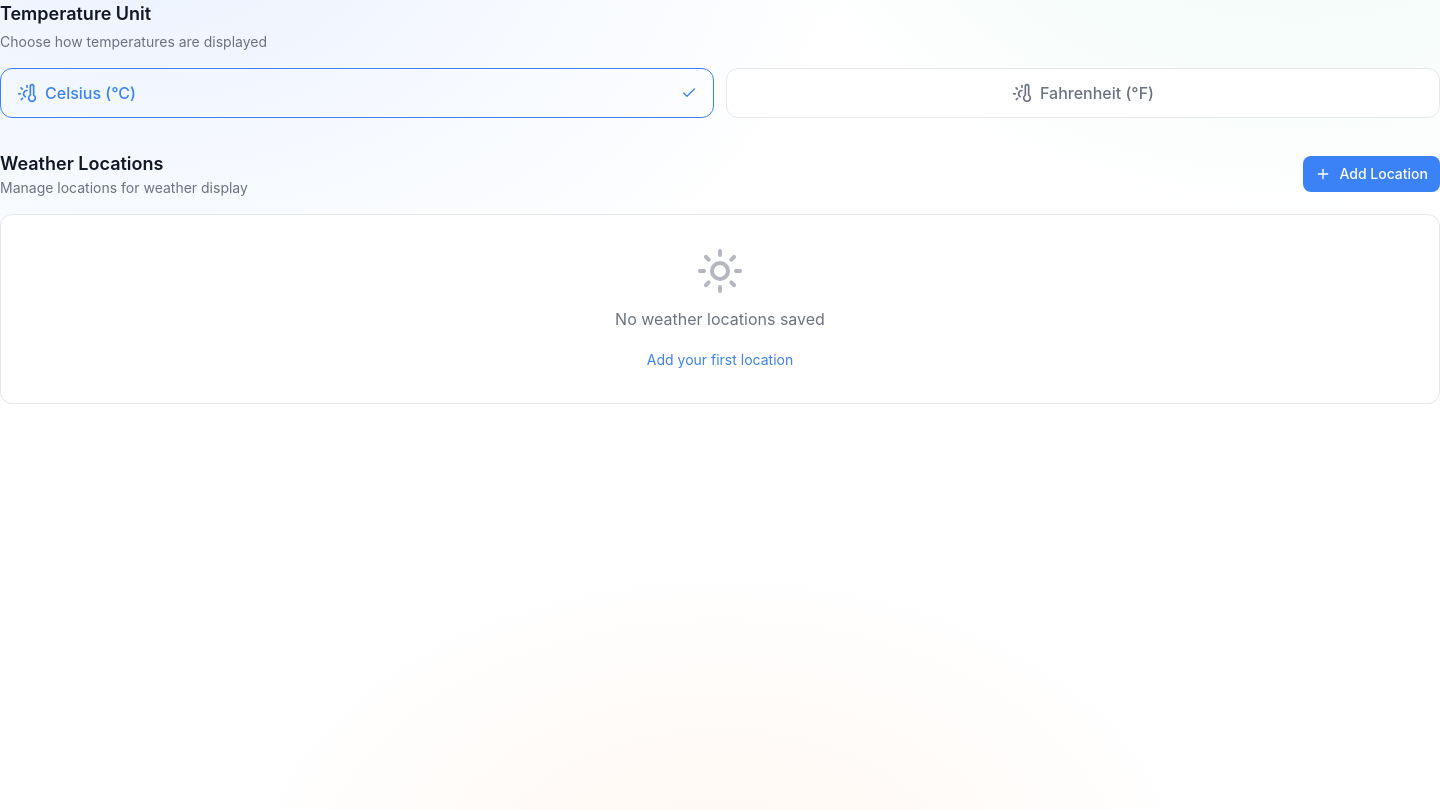
WeatherSettings › Empty Locations State › opens add modal when clicking link in empty state
Click the button "Add your first location" at (720, 360), box [647, 350, 793, 370]
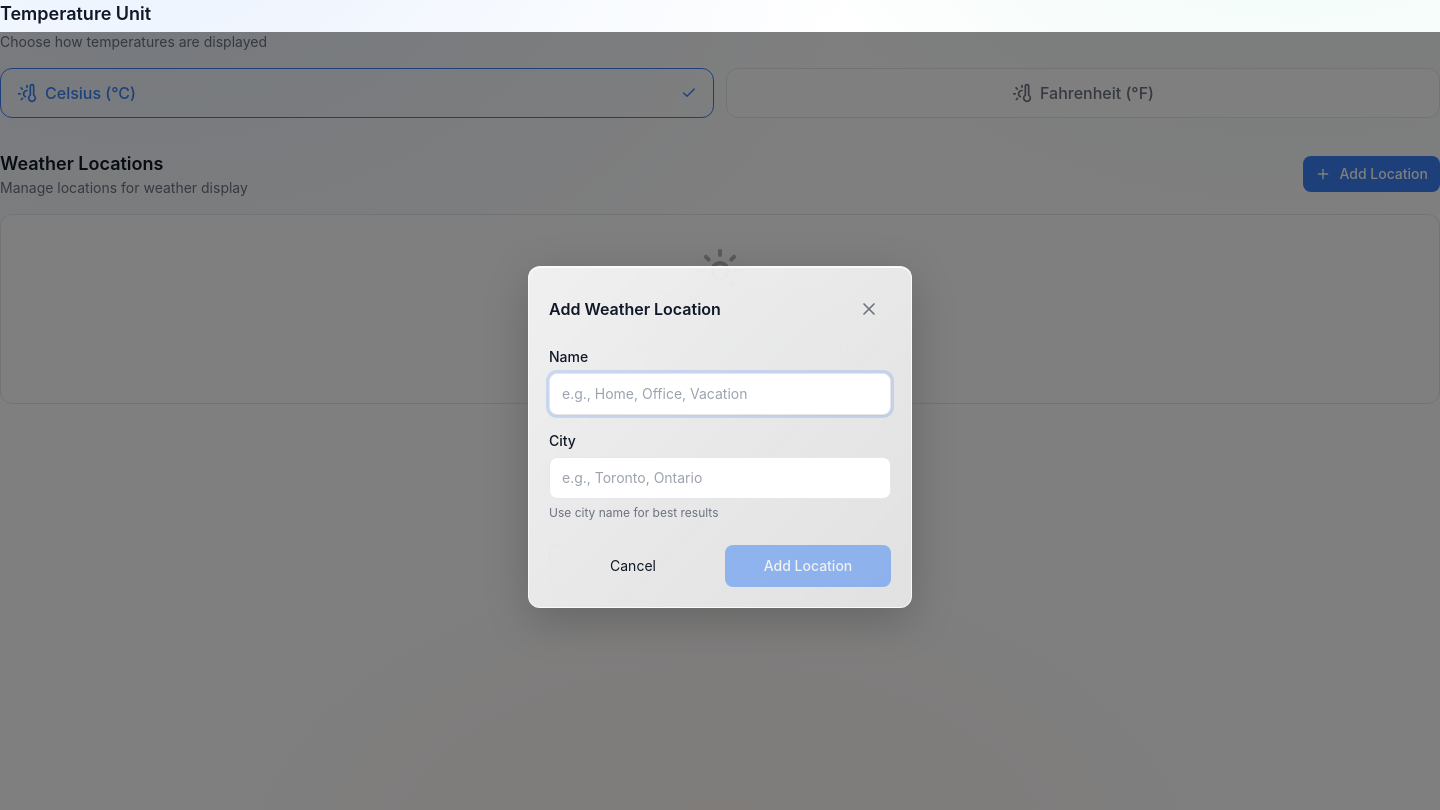
Expected: the heading "Add Weather Location" is shown, [549, 297, 721, 321]
